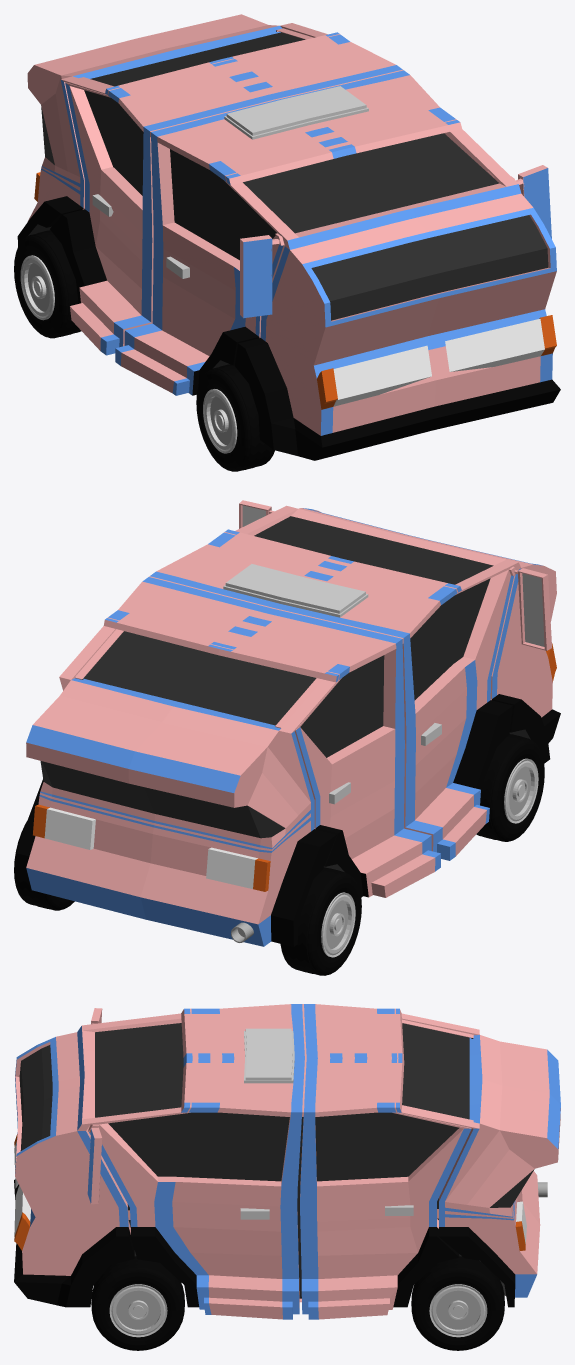
3 views of the same model, one above another, from view 1: azimuth 30°, elevation 25°; view 2: azimuth 150°, elevation 25°; view 3: azimuth 270°, elevation 25° (orthographic). The views are drawn at different scales.
Parts seen in each view (by area): view 1: BODY40A, WHEEL.001, WHEEL.004; view 2: BODY40A, WHEEL.004, WHEEL.001, WHEEL.002; view 3: BODY40A, WHEEL.002, WHEEL.003.
Part boxes in pixels (x1,y1,x2,y2): BODY40A: [17, 14, 560, 460]; WHEEL.001: [196, 364, 274, 471]; WHEEL.004: [14, 230, 81, 338]; BODY40A: [16, 500, 560, 946]; WHEEL.004: [280, 867, 361, 975]; WHEEL.001: [476, 734, 544, 841]; WHEEL.002: [14, 821, 74, 910]; BODY40A: [14, 1004, 560, 1319]; WHEEL.002: [411, 1256, 504, 1350]; WHEEL.003: [91, 1256, 184, 1350].
Size of the model in its own units: 142 by 109 by 229.
